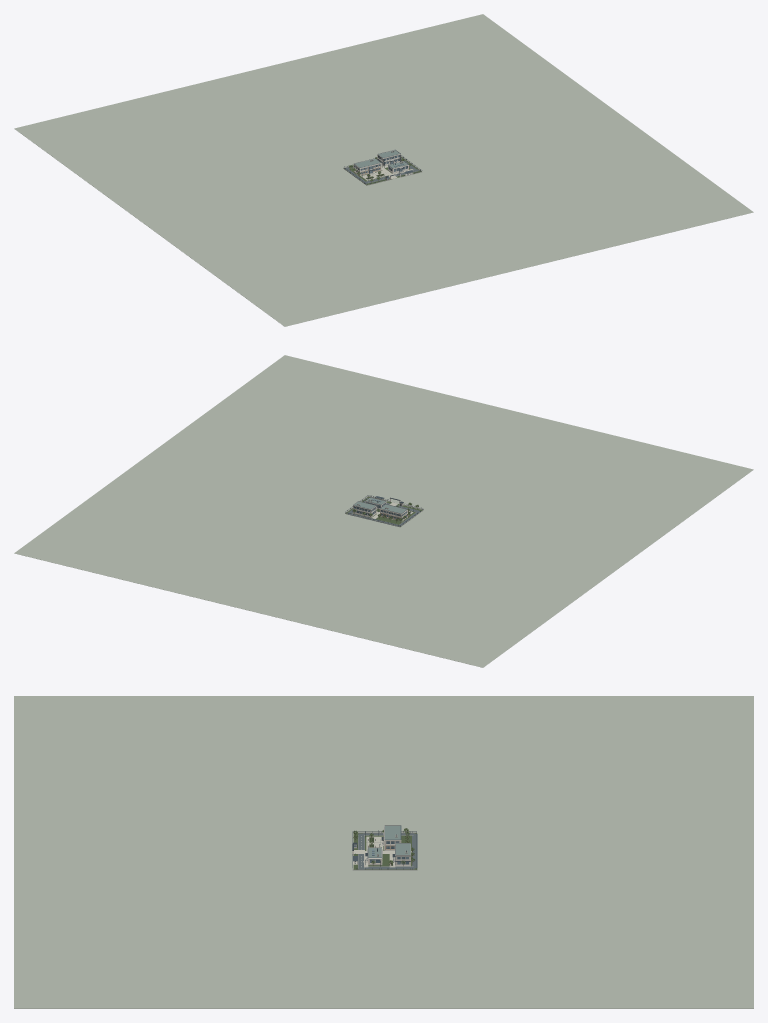
Rendered from campus-design-editable.glb.
The picture shows the model from 3 angles, top to bottom: view 1: azimuth 30°, elevation 25°; view 2: azimuth 150°, elevation 25°; view 3: azimuth 270°, elevation 25°; orthographic projection. The views are drawn at different scales.
Parts seen in each view (by area): view 1: campus-architecture; view 2: campus-architecture; view 3: campus-architecture (×2).
Boxes of the visible parts, left/top/right/bottom form: campus-architecture: left=14, top=14, right=753, bottom=326; campus-architecture: left=14, top=355, right=753, bottom=667; campus-architecture (×2): left=14, top=696, right=753, bottom=1008.
Bounding box in the file's own units: 500 × 9.26 × 500.
11 materials, 4 textured.
